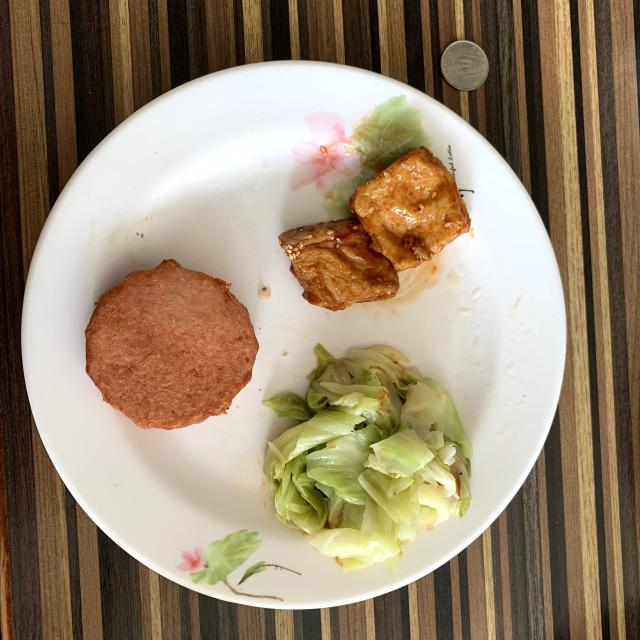Spam: (85, 259, 259, 430)
cabbage: (265, 345, 472, 572)
coin: (440, 40, 489, 91)
creamy tofu: (279, 146, 471, 311)
